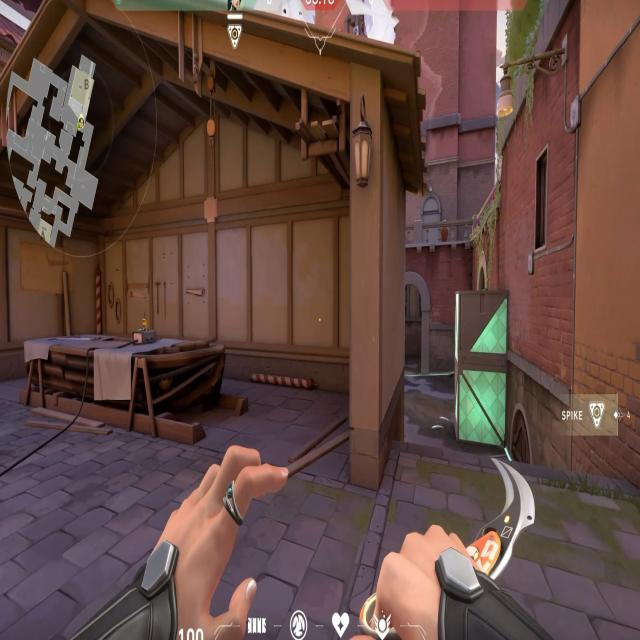B_Boathouse: (404, 264, 432, 378)
B_Garage_Left: (0, 142, 49, 402)
B_Garage_Right: (202, 84, 386, 487)
